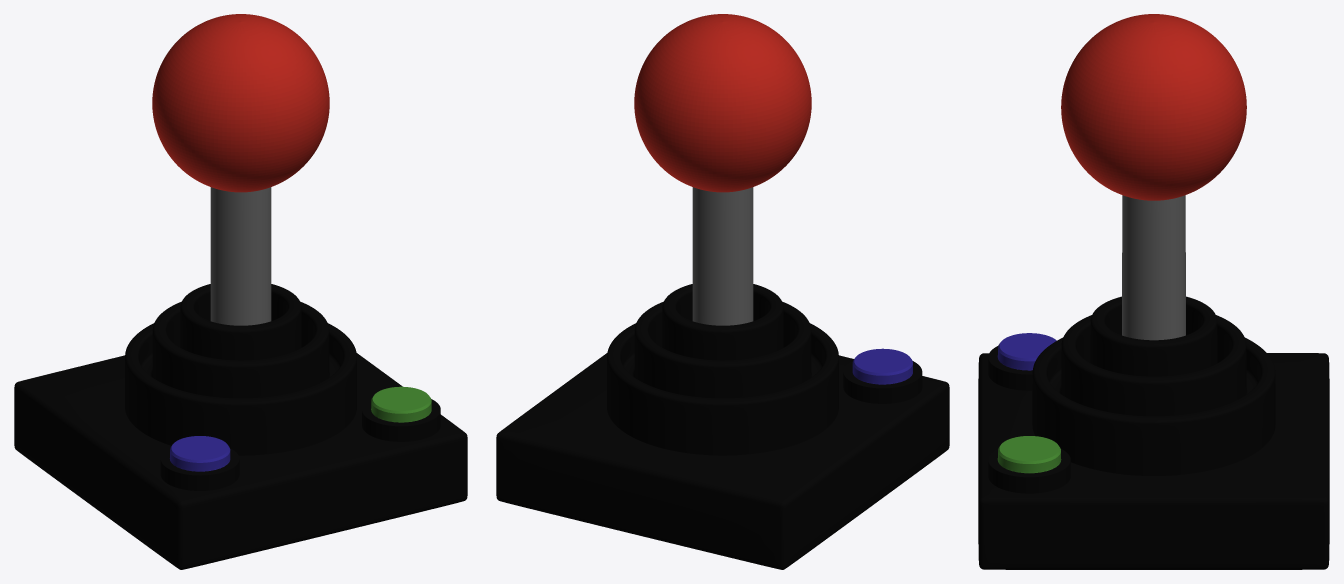
The model's file is Joy.fbx.
3 views of the same model, side by side, from view 1: azimuth 30°, elevation 25°; view 2: azimuth 150°, elevation 25°; view 3: azimuth 270°, elevation 25° (orthographic). The views are drawn at different scales.
Visible parts, largest first — view 1: Plane, Circle, Sphere, Circle.002, Circle.001; view 2: Plane, Circle, Sphere, Circle.002; view 3: Plane, Circle, Sphere, Circle.001, Circle.002.
Boxes of the visible parts, x1,y1,x2,y2 form: Plane: (14,353,467,569); Circle: (125,187,356,455); Sphere: (152,14,329,192); Circle.002: (160,436,239,490); Circle.001: (362,386,440,441); Plane: (496,353,949,569); Circle: (607,187,838,455); Sphere: (634,14,811,192); Circle.002: (843,348,922,403); Plane: (978,353,1329,569); Circle: (1032,195,1275,475); Sphere: (1061,14,1246,200); Circle.001: (988,436,1070,493); Circle.002: (988,333,1056,390).
Size of the model in its own units: 200 by 299 by 200.
